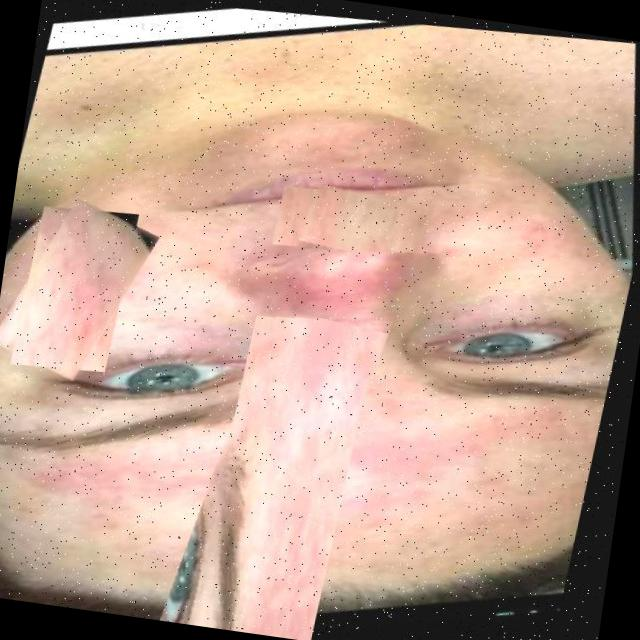redness: (243, 184, 360, 638), (34, 194, 133, 357), (230, 250, 441, 317)
